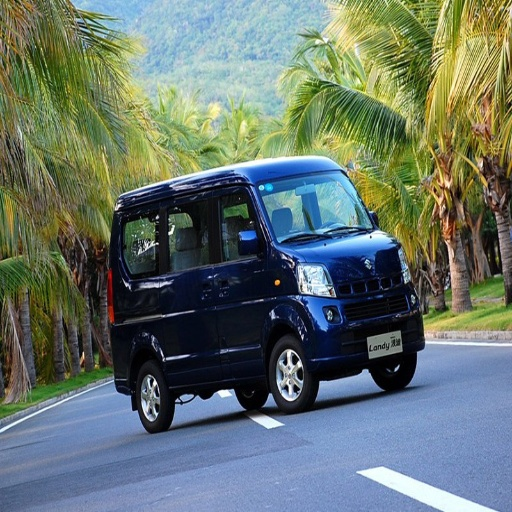front_bumper: (307, 266, 421, 375)
front_right_door: (211, 181, 262, 364)
trunk: (123, 261, 159, 321)
